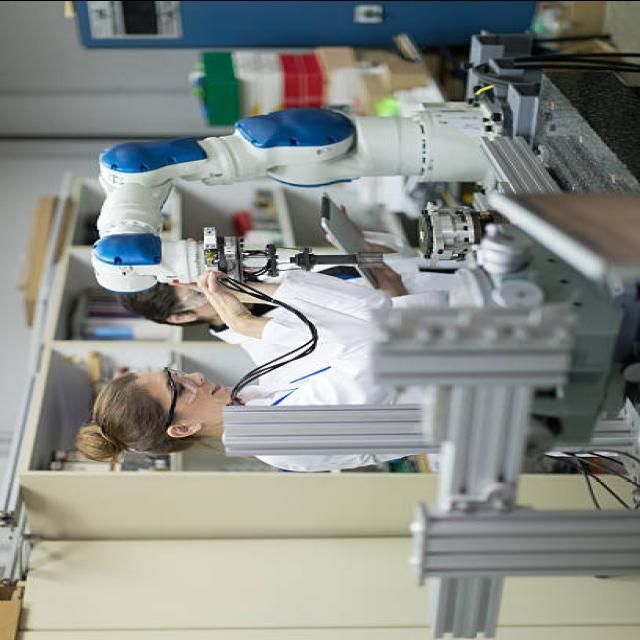Robotic-arm: (74, 102, 504, 290)
